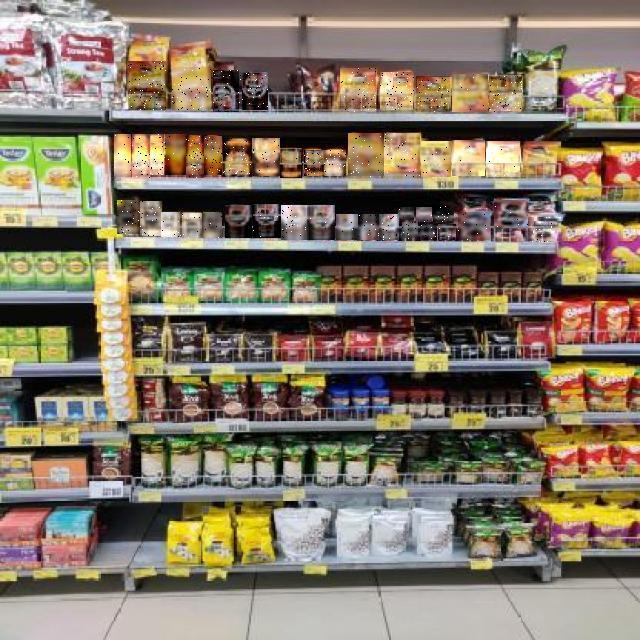Coffee: (128, 61, 166, 110), (172, 67, 211, 110), (341, 68, 377, 112), (385, 134, 421, 178), (348, 134, 384, 178), (452, 74, 488, 112), (380, 72, 414, 110), (416, 77, 450, 113), (486, 141, 520, 177), (489, 76, 522, 112), (452, 141, 485, 177), (214, 70, 242, 112), (524, 142, 556, 178), (421, 141, 451, 177), (223, 138, 251, 176), (252, 139, 280, 177), (243, 72, 269, 110), (527, 213, 561, 242), (307, 205, 335, 240), (494, 200, 528, 228), (253, 205, 281, 239), (281, 205, 308, 240), (458, 212, 490, 240), (225, 205, 252, 238), (167, 134, 187, 175), (132, 134, 150, 178), (117, 201, 140, 235), (140, 201, 162, 236), (187, 136, 205, 178), (150, 134, 168, 175), (114, 134, 131, 177), (204, 136, 222, 175), (281, 148, 303, 178), (323, 150, 346, 176), (336, 214, 358, 240), (358, 215, 379, 241), (201, 213, 222, 238), (304, 150, 324, 176), (379, 214, 399, 240), (162, 212, 182, 237), (183, 213, 203, 238), (434, 207, 452, 223), (439, 225, 457, 241), (420, 225, 437, 241), (398, 208, 414, 224), (416, 208, 432, 224), (402, 224, 418, 240)
